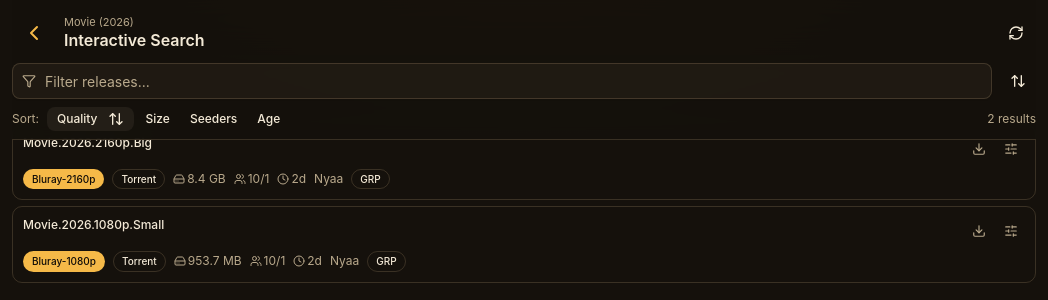
Test: InteractiveSearch page › filters by text and re-sorts
The width and height of the screenshot is (1048, 300).
Expected: the text "Movie.2026.2160p.Big" is shown, x1=23 y1=135 x2=152 y2=150
Step 1. Click the button "Size" → x=158, y=119, box x1=138 y1=107 x2=178 y2=131
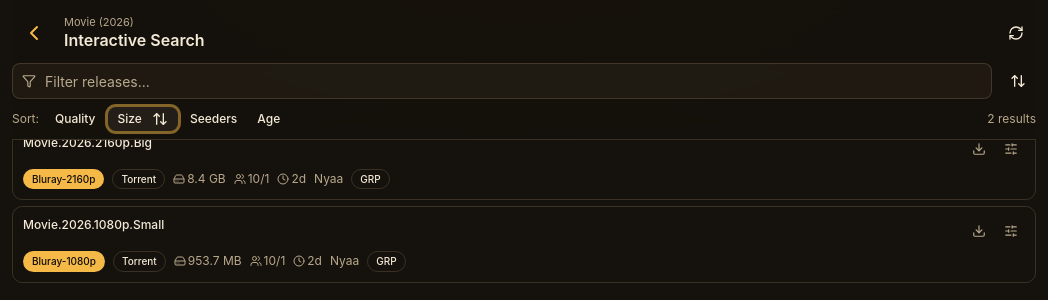
Step 2. Click the button "Size" → x=143, y=119, box x1=108 y1=107 x2=178 y2=131
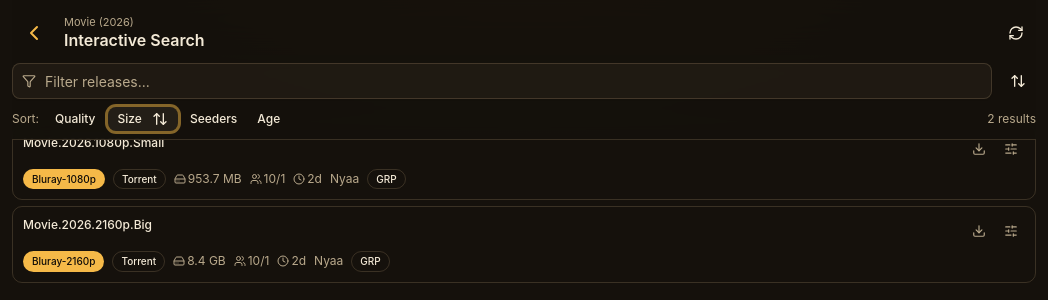
Step 3. Type "small" into the field with placeholder "Filter releases..." → x=502, y=81, box x1=12 y1=63 x2=992 y2=99
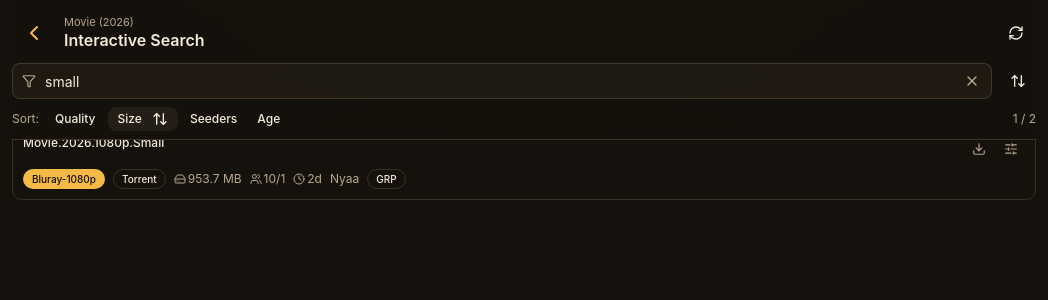
Result: the text "1 / 2" is shown at x1=1013 y1=111 x2=1036 y2=127
